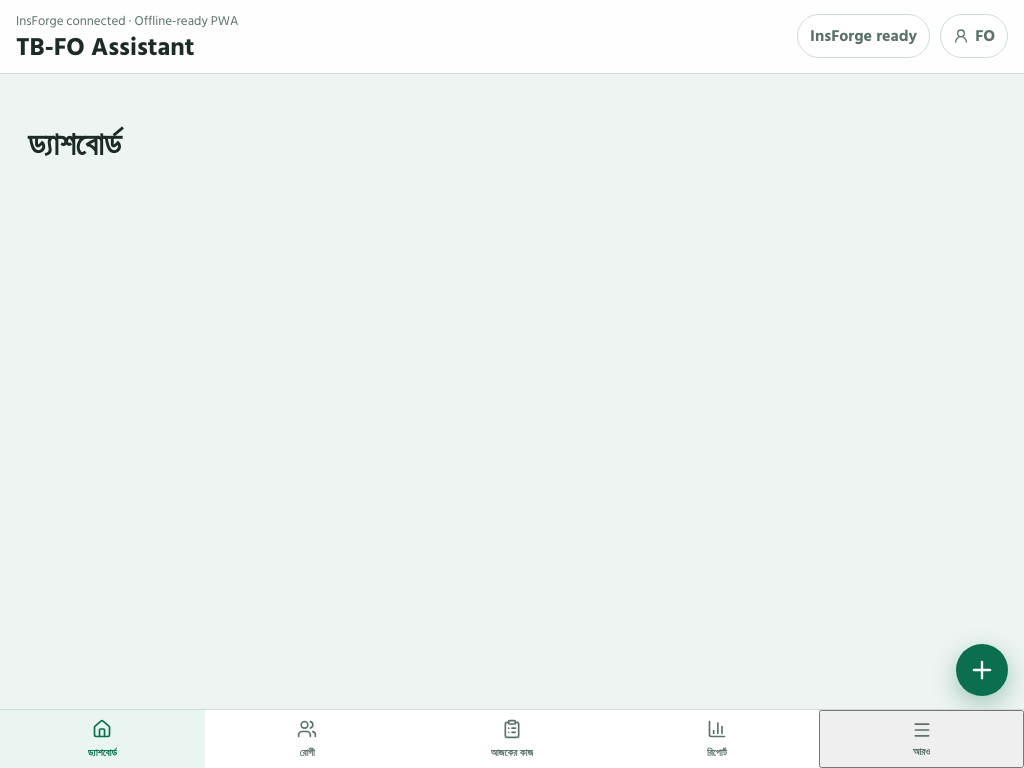
Test: TB-FO UI components › shows Monthly Follow-up in the mobile more menu
This screenshot has width=1024, height=768.
Click the button with aria-label "আরও মেনু".
click(922, 739)  # box x1=819 y1=710 x2=1023 y2=767
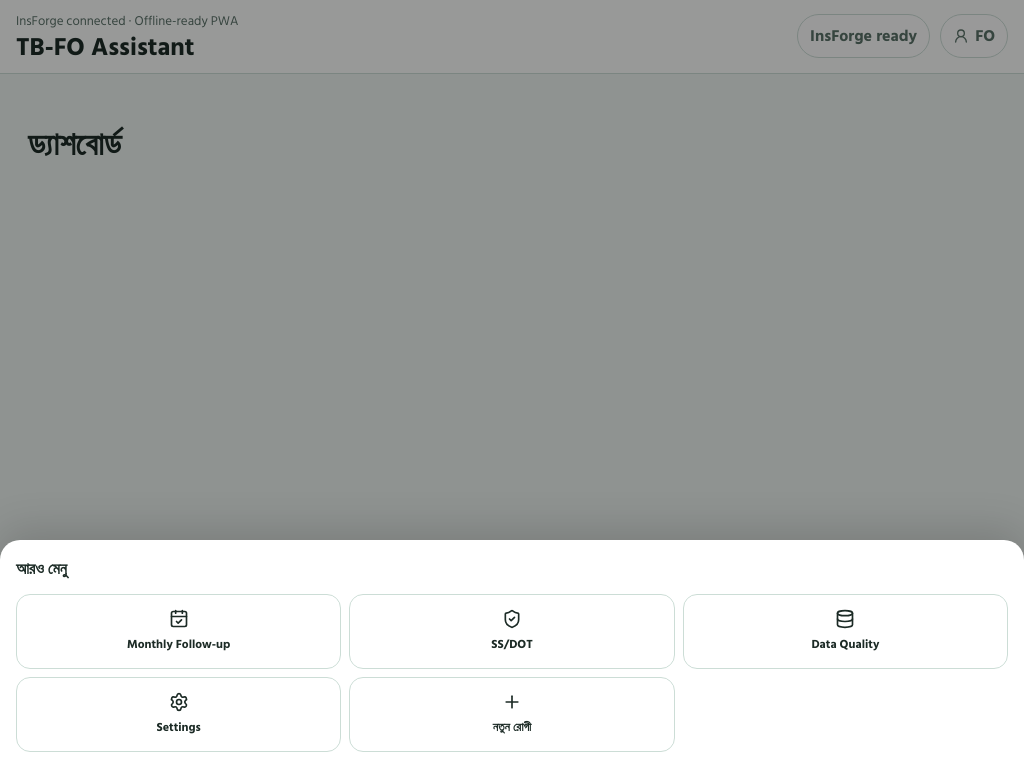
Result: the text "Monthly Follow-up" is shown at x1=127 y1=635 x2=230 y2=654
